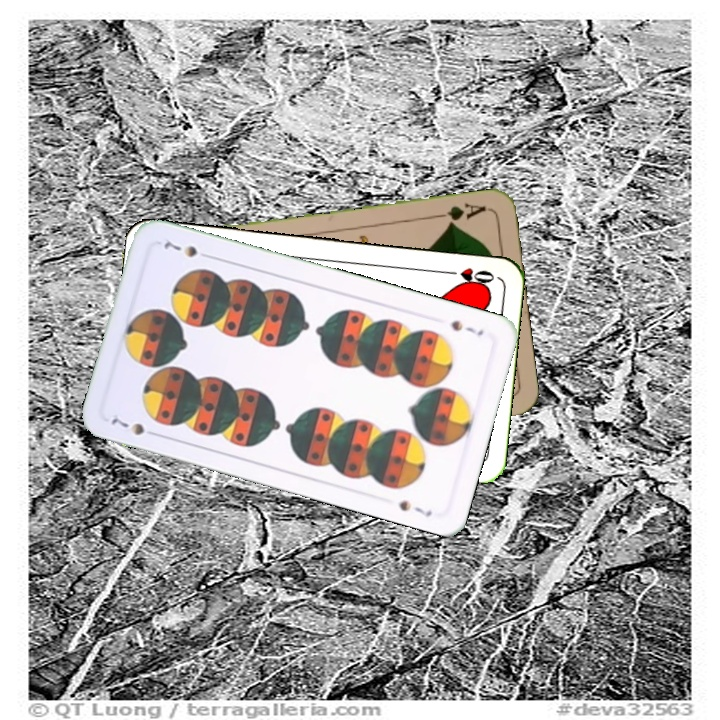GA: (431, 199, 489, 228)
HO: (439, 264, 497, 288)
S7: (107, 412, 162, 440), (447, 316, 486, 338)
